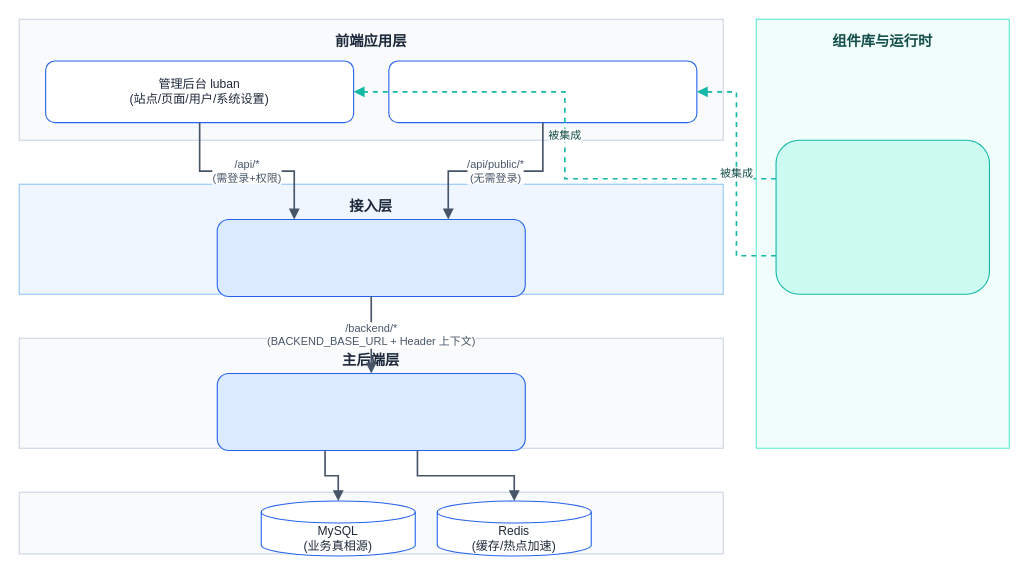
Some shapes in this 1029 by 575 pixel diagram are drawn without their labels. Here are the shapes that lost their labels. From the top down, the centre of each, then its label:
(x=542, y=91): 对外站点 luban-website (Nuxt 3 SSR + Render)
(x=882, y=216): luban-ui Designer 设计器 Render 运行时渲染 (基础组件 + 低代码组件)
(x=370, y=257): luban-bff Node API Gateway (认证注入 / 协议聚合 / 限流)
(x=370, y=411): luban-backend (Java) Spring Boot + MyBatis 站点/页面/用户/系统设置原子接口
